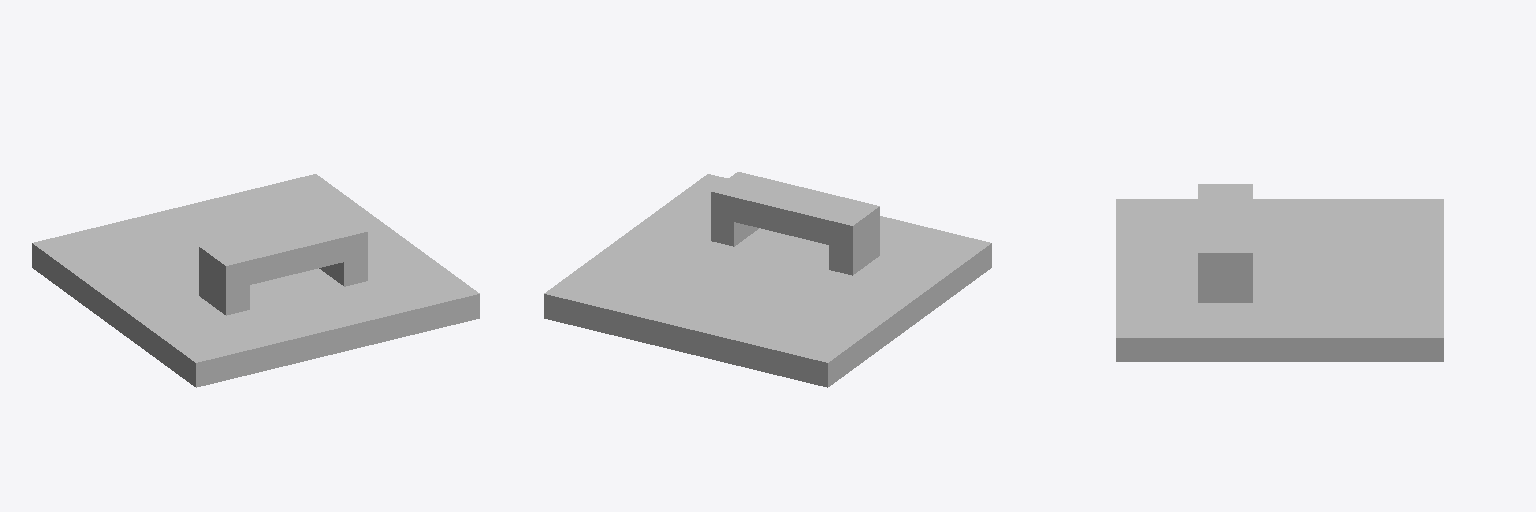
File: Door.obj
3 renders of one model, left to right at view 1: azimuth 30°, elevation 25°; view 2: azimuth 150°, elevation 25°; view 3: azimuth 270°, elevation 25°, orthographic.
Visible parts, largest first — view 1: object 1; view 2: object 1; view 3: object 1.
Part boxes in pixels (bbox=[...]): object 1: bbox=[32, 174, 479, 387]; object 1: bbox=[544, 172, 991, 387]; object 1: bbox=[1116, 184, 1443, 361].
Bounding box in the file's own units: 1.2 × 0.3 × 1.2.